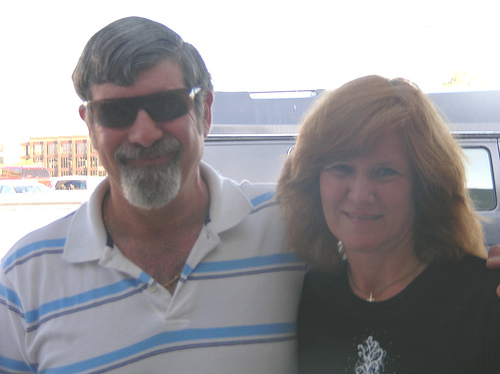without_mask: (79, 67, 216, 205), (318, 131, 422, 253)
